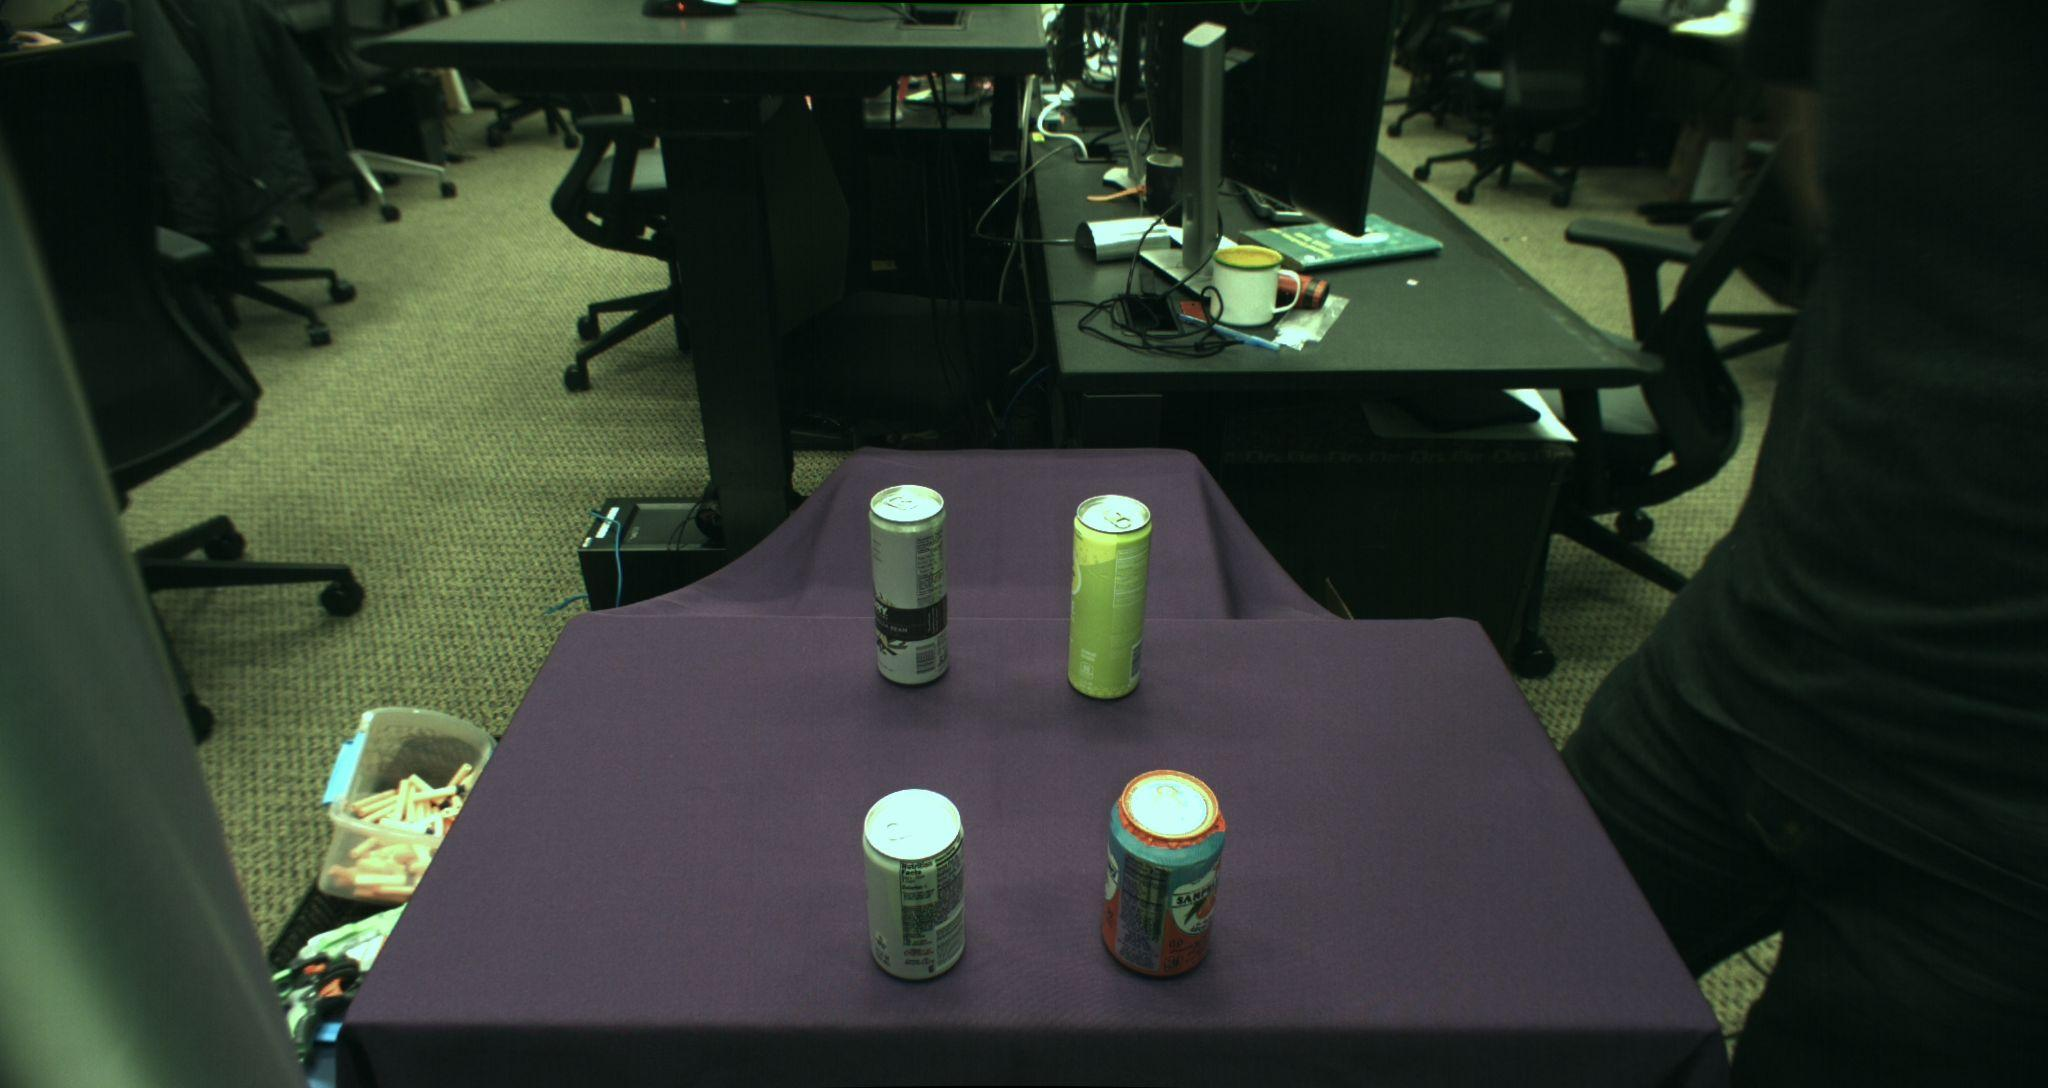can_diet_coke_small: (861, 789, 967, 980)
can_dry_sparkling_vanilla_bean: (868, 484, 950, 686)
can_izze_fusions_lemon_lime: (1067, 492, 1151, 700)
can_sanpellegrino_blood_orange: (1100, 770, 1226, 980)
